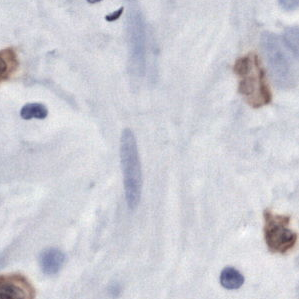Lymphocyte: (263, 210, 296, 255)
